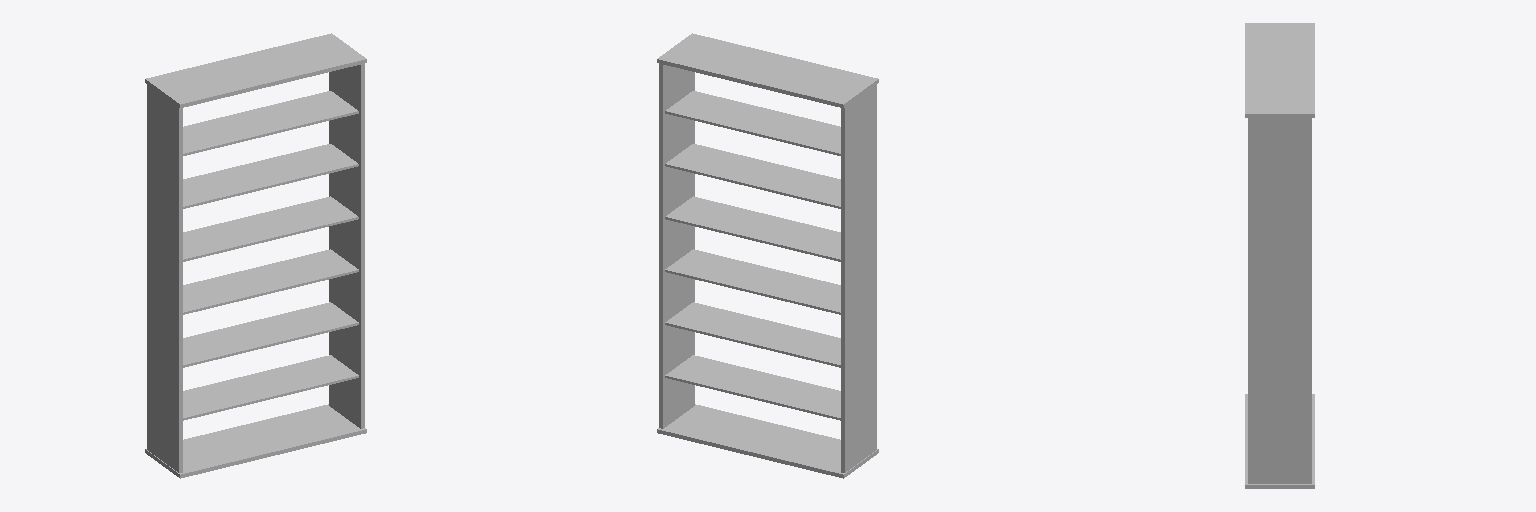
Rendered from Bookshelf.obj.
3 renders of one model, left to right at view 1: azimuth 30°, elevation 25°; view 2: azimuth 150°, elevation 25°; view 3: azimuth 270°, elevation 25°, orthographic.
Parts seen in each view (by area): view 1: Bookshelf; view 2: Bookshelf; view 3: Bookshelf.
Part boxes in pixels (x1,y1,x2,y2): Bookshelf: (145, 33, 366, 478); Bookshelf: (657, 33, 878, 478); Bookshelf: (1245, 23, 1314, 488).
Size of the model in its own units: 2.32 by 4.44 by 0.756.